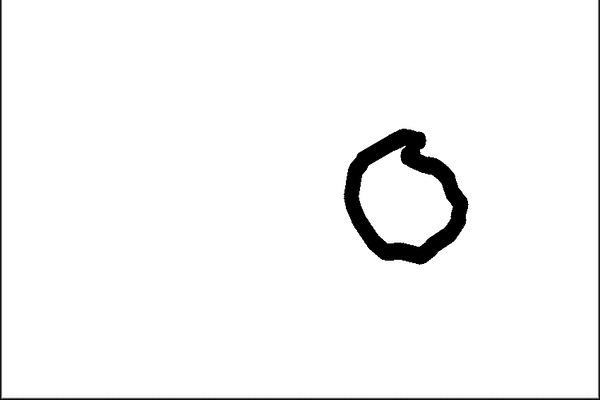O: (321, 115, 480, 268)
